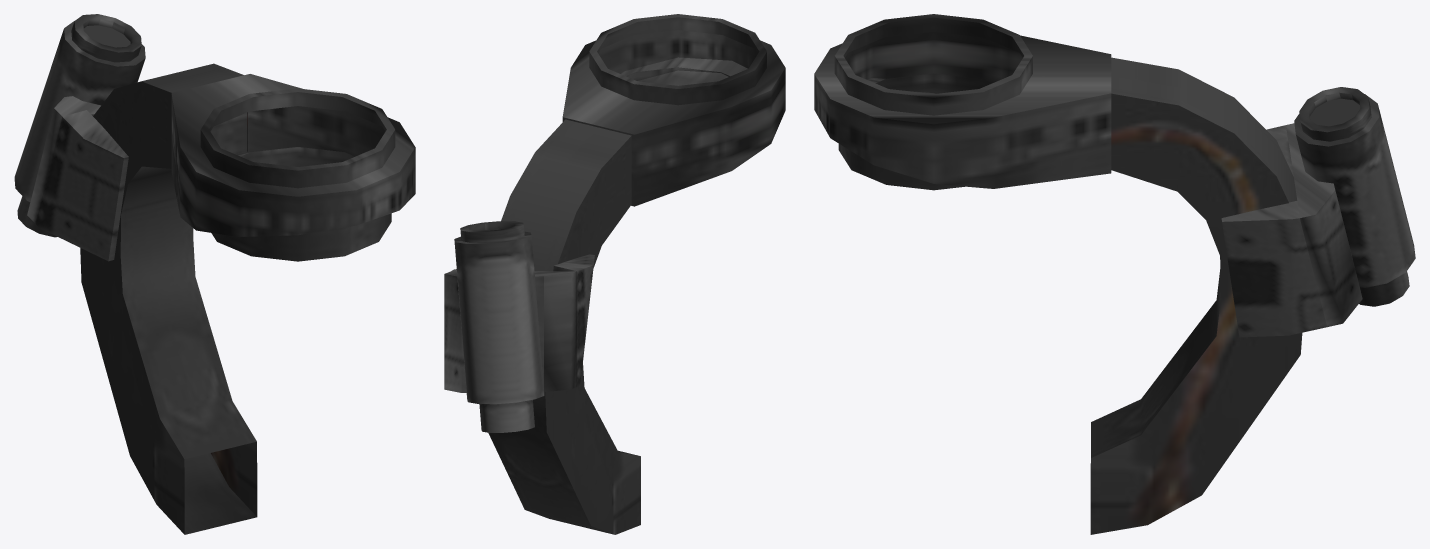
File: steer_front_right_link.dae
3 views of the same model, side by side, from view 1: azimuth 30°, elevation 25°; view 2: azimuth 150°, elevation 25°; view 3: azimuth 270°, elevation 25° (orthographic). The views are drawn at different scales.
Visible parts, largest first — view 1: steer_front_right_link; view 2: steer_front_right_link; view 3: steer_front_right_link.
Boxes of the visible parts, box(x1,y1,x2,y2) form: steer_front_right_link: box(14, 14, 415, 534); steer_front_right_link: box(444, 14, 785, 534); steer_front_right_link: box(814, 14, 1415, 534).
Size of the model in its own units: 0.2102 by 0.5284 by 0.4469.
Materials: 2 (2 with a texture image).
